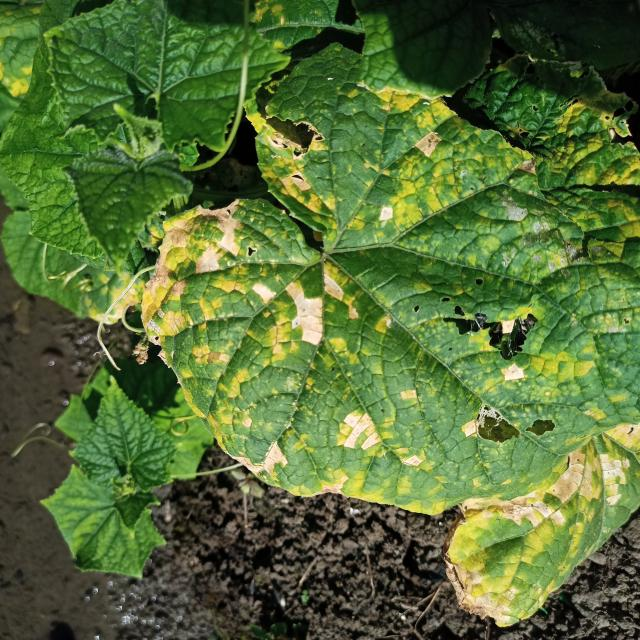disease_cucumber: (144, 67, 634, 502), (449, 442, 640, 622)
